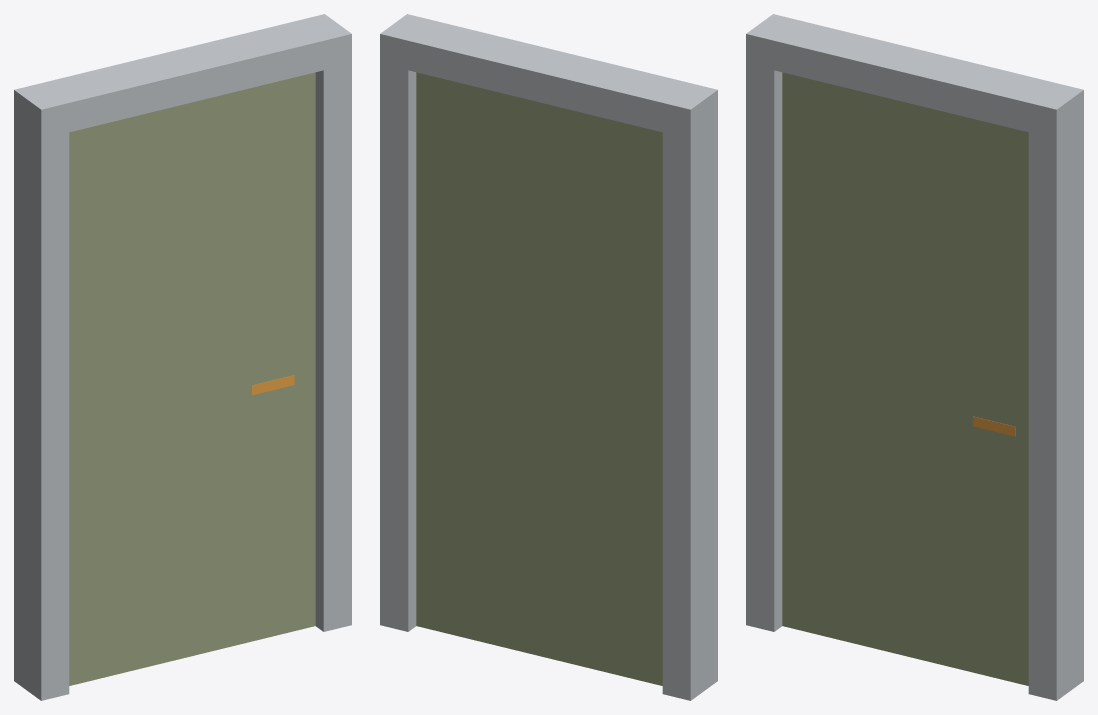
The model's file is mech-hangar-and-battle-frames-personnel-door-7ea1df03__26957.glb.
3 views of the same model, side by side, from view 1: azimuth 30°, elevation 25°; view 2: azimuth 150°, elevation 25°; view 3: azimuth 330°, elevation 25° (orthographic).
Parts seen in each view (by area): view 1: personnel-door; view 2: personnel-door; view 3: personnel-door.
Part boxes in pixels (x1,y1,x2,y2): personnel-door: [14, 14, 351, 700]; personnel-door: [380, 14, 717, 700]; personnel-door: [746, 14, 1083, 700].
Bounding box in the file's own units: 1.32 × 2.4 × 0.2001.
